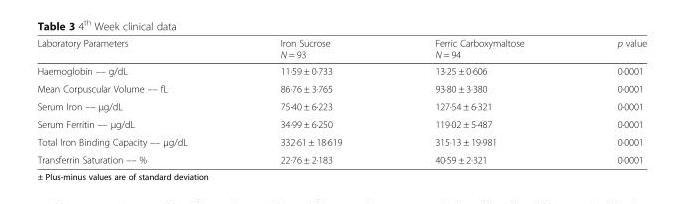table: (36, 37, 646, 164)
table column: (36, 37, 233, 164), (387, 37, 570, 164), (233, 37, 387, 164), (570, 37, 646, 164)
table column header: (36, 37, 646, 62)
table row: (36, 37, 646, 62), (36, 96, 646, 114), (36, 114, 646, 132), (36, 132, 646, 150), (36, 62, 646, 79), (36, 79, 646, 96), (36, 150, 646, 164)
